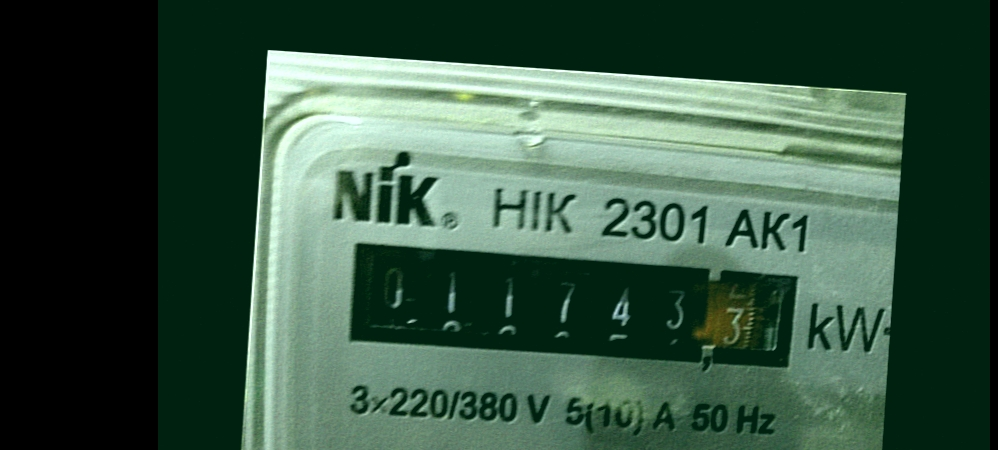0: (381, 266, 413, 315)
1: (501, 275, 525, 324), (446, 271, 466, 320)
3: (664, 288, 695, 337), (723, 306, 750, 351)
4: (610, 283, 641, 333)
7: (556, 281, 584, 330)
screen: (336, 235, 809, 384)
